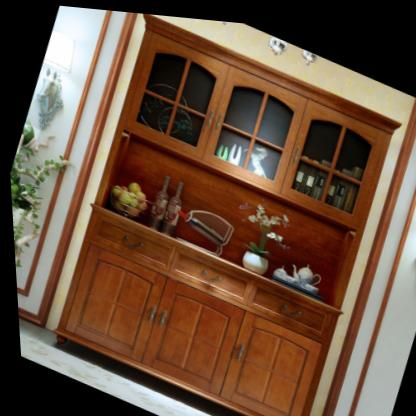Cupboard: (50, 12, 397, 416)
